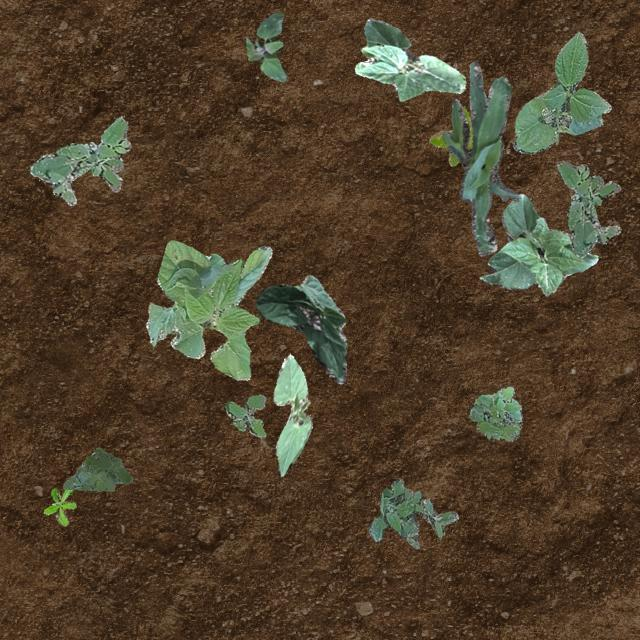crop: (144, 238, 270, 379), (442, 61, 520, 256), (478, 192, 598, 294), (512, 30, 610, 154), (254, 274, 346, 382), (354, 18, 464, 100), (272, 352, 312, 476)
weed: (30, 116, 130, 204), (368, 478, 458, 548), (556, 160, 620, 256), (62, 446, 132, 491), (468, 386, 520, 440), (246, 10, 286, 80), (428, 106, 472, 164), (223, 393, 264, 438), (42, 488, 76, 526)
